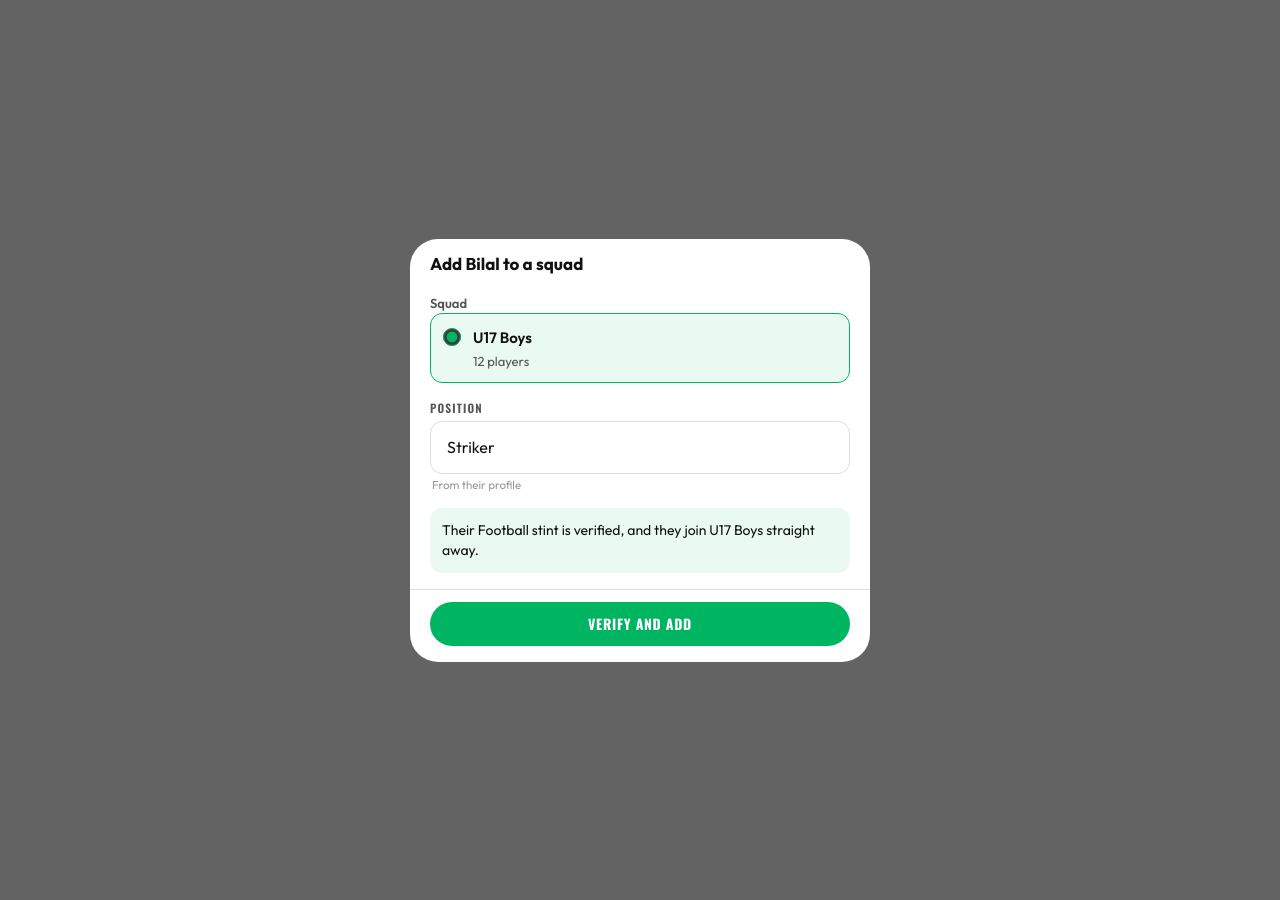
VerifyIntoSquadSheet › shows a squads refusal in the sheet, not as a toast, and stays open
Click the button "Verify and add".
click(640, 623)  # box [430,601,850,645]
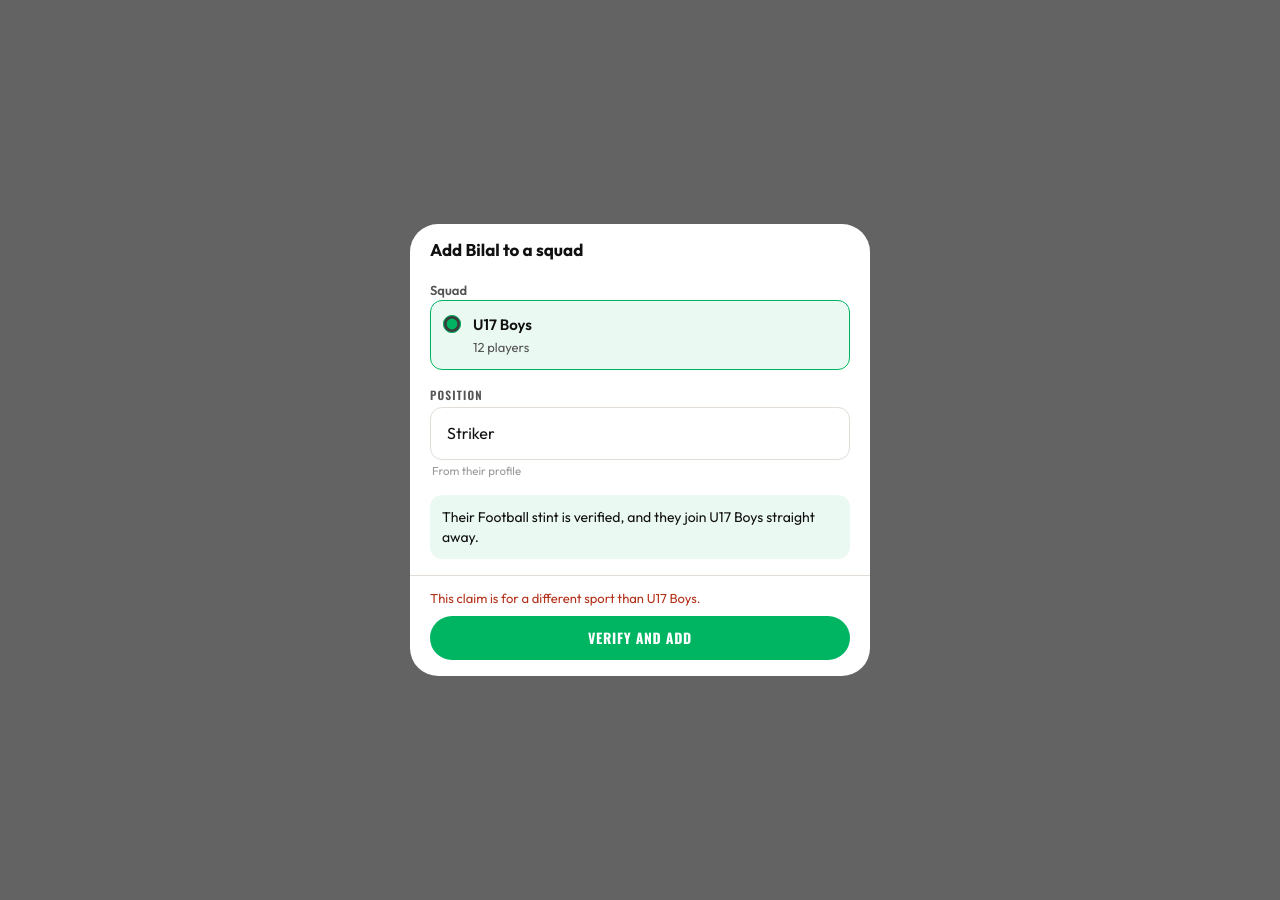
Result: the message "This claim is for a different sport than U17 Boys." is shown at [430,590,700,606]
